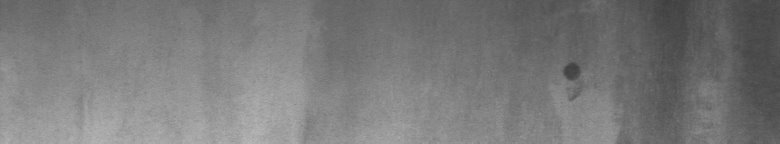fi: (556, 56, 588, 104)
